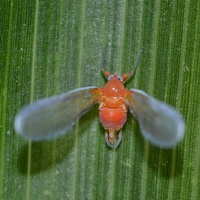insect: (14, 49, 184, 147)
